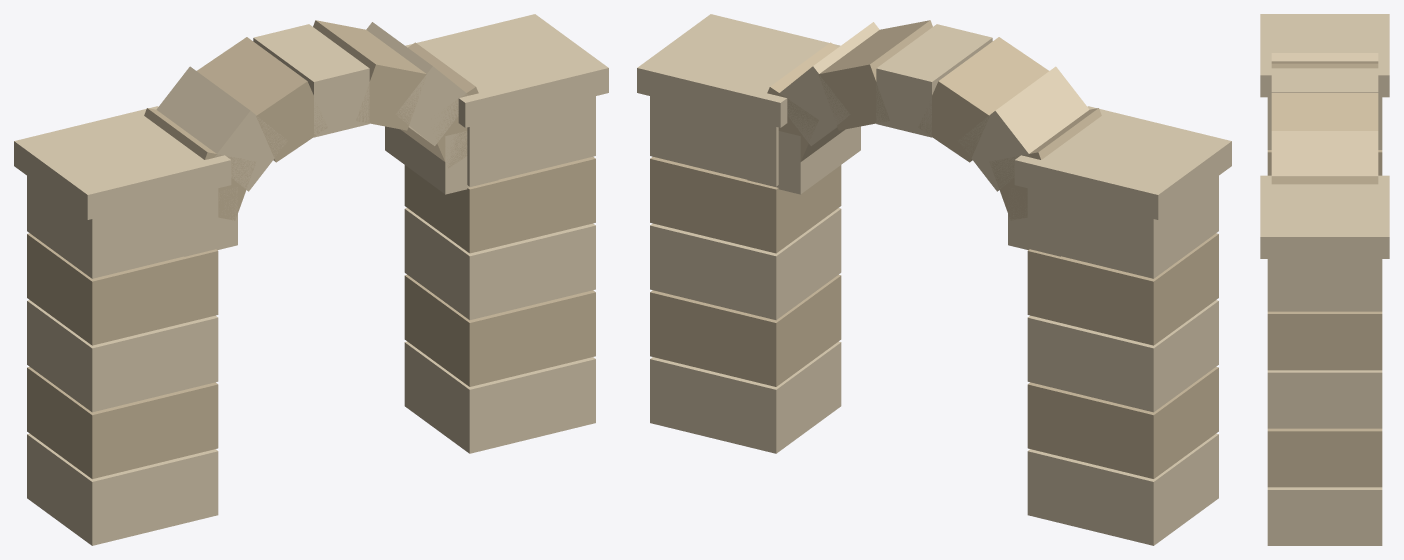
The model's file is courtyard-gate.glb.
3 renders of one model, left to right at view 1: azimuth 30°, elevation 25°; view 2: azimuth 150°, elevation 25°; view 3: azimuth 270°, elevation 25°, orthographic. The views are drawn at different scales.
Parts seen in each view (by area): view 1: Pier cap, Pier_1_2, Pier_-1_0, Pier_1_0, Pier_-1_2, Pier_1_1, Pier_-1_1, Pier_-1_3, Pier cap.001, Pier_1_3, Pier_-1_4, Pier_1_4 (+9 smaller); view 2: Pier cap, Pier_1_2, Pier_-1_0, Pier_1_0, Pier_-1_2, Pier_1_1, Pier_-1_1, Pier_-1_3, Pier cap.001, Pier_1_3, Pier_-1_4, Pier_1_4 (+9 smaller); view 3: Pier cap.001, Pier_1_1, Pier_1_3, Pier_1_0, Pier_1_2, Pier cap, Pier_1_4, Arch stone 2, Arch stone 3, Arch stone 4, Arch stone 1, Arch stone 6 (+3 smaller).
Boxes of the visible parts, box(x1,y1,x2,y2) form: Pier cap: box(14, 106, 231, 219); Pier_1_2: box(404, 208, 595, 320); Pier_-1_0: box(27, 433, 218, 545); Pier_1_0: box(404, 341, 595, 453); Pier_-1_2: box(27, 300, 218, 412); Pier_1_1: box(404, 274, 595, 386); Pier_-1_1: box(27, 367, 218, 478); Pier_-1_3: box(27, 233, 218, 345); Pier cap.001: box(405, 14, 608, 127); Pier_1_3: box(404, 157, 595, 253); Pier_-1_4: box(27, 176, 218, 278); Pier_1_4: box(467, 96, 595, 186); Pier cap: box(1014, 106, 1231, 219); Pier_1_2: box(650, 208, 841, 320); Pier_-1_0: box(1027, 433, 1218, 545); Pier_1_0: box(650, 341, 841, 453); Pier_-1_2: box(1027, 300, 1218, 412); Pier_1_1: box(650, 274, 841, 386); Pier_-1_1: box(1027, 367, 1218, 478); Pier_-1_3: box(1027, 233, 1218, 345); Pier cap.001: box(637, 14, 840, 127); Pier_1_3: box(650, 157, 841, 253); Pier_-1_4: box(1027, 176, 1218, 278); Pier_1_4: box(650, 96, 778, 186); Pier cap.001: box(1260, 175, 1389, 258); Pier_1_1: box(1267, 428, 1382, 487); Pier_1_3: box(1267, 311, 1382, 370); Pier_1_0: box(1267, 487, 1382, 545); Pier_1_2: box(1267, 370, 1382, 428); Pier cap: box(1260, 14, 1389, 97); Pier_1_4: box(1267, 259, 1382, 311); Arch stone 2: box(1271, 131, 1378, 176); Arch stone 3: box(1271, 93, 1378, 130); Arch stone 4: box(1271, 68, 1378, 92); Arch stone 1: box(1271, 176, 1378, 184); Arch stone 6: box(1271, 53, 1378, 61).
Bounding box in the file's own units: 3.92 × 2.95 × 0.96.
